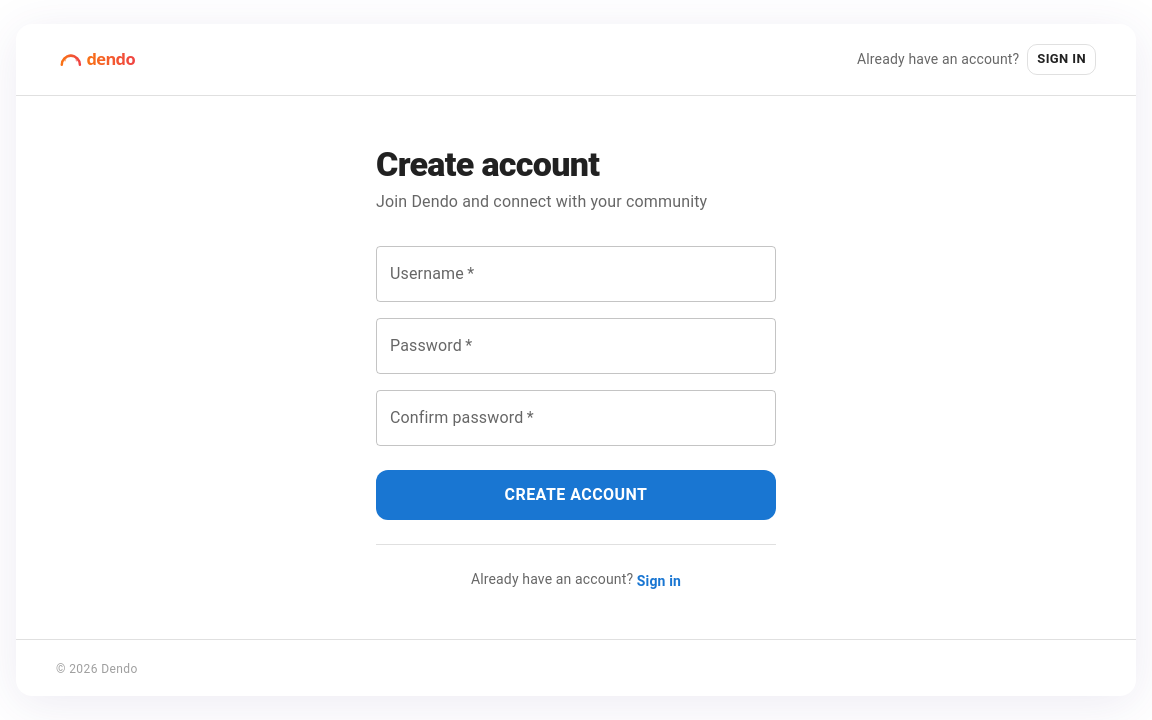
Test: SignupPage › shows server error when username is already taken
In the field labelled "Username *": point(576, 274) [376,246,776,302], type "admin"
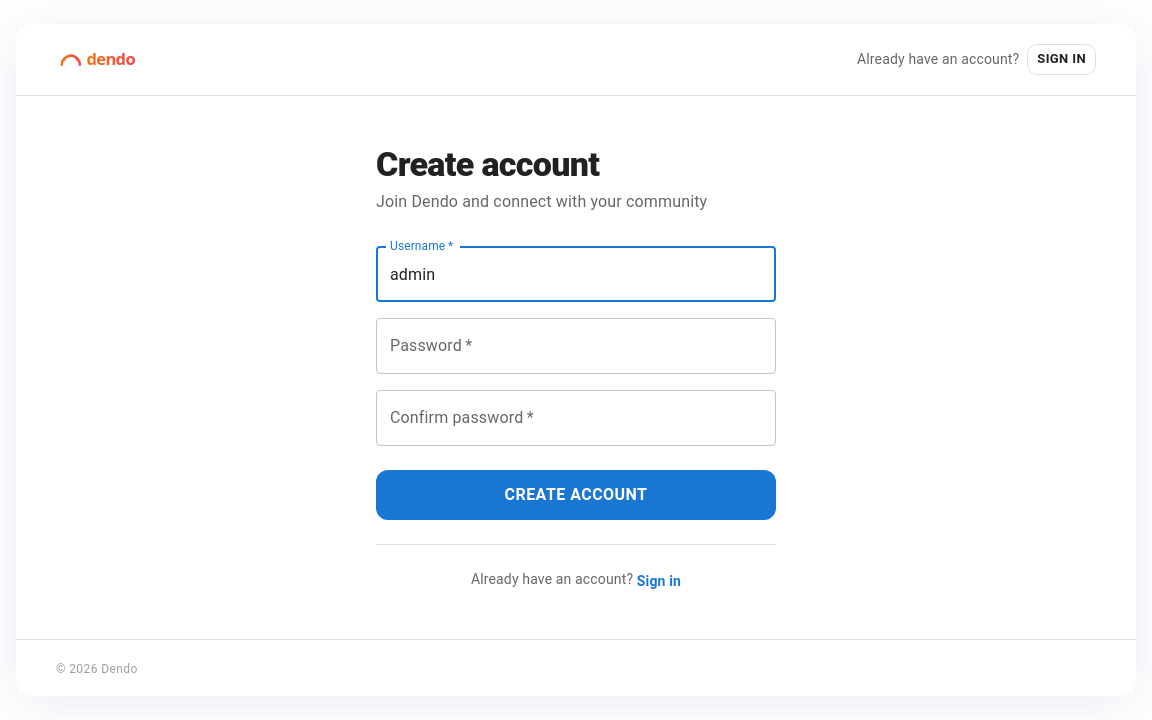
In the password field labelled "Password *": point(576, 346) [376,318,776,374], type "secret123"
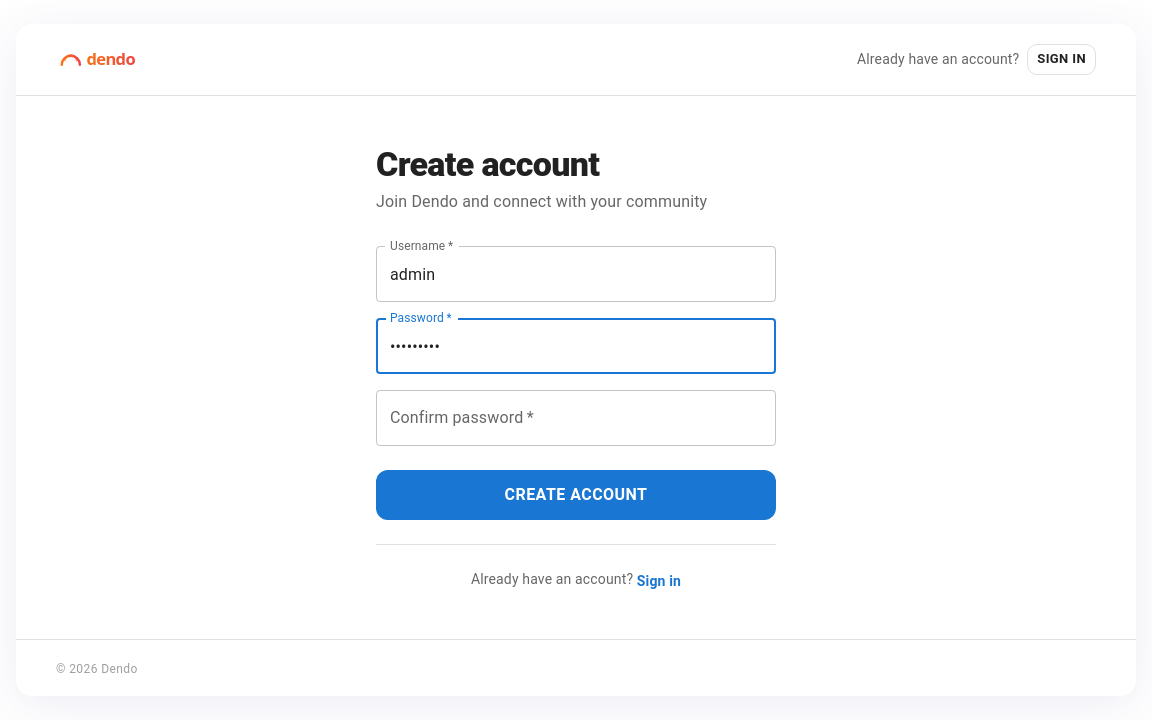
In the password field labelled "Confirm password *": point(576, 418) [376,390,776,446], type "secret123"
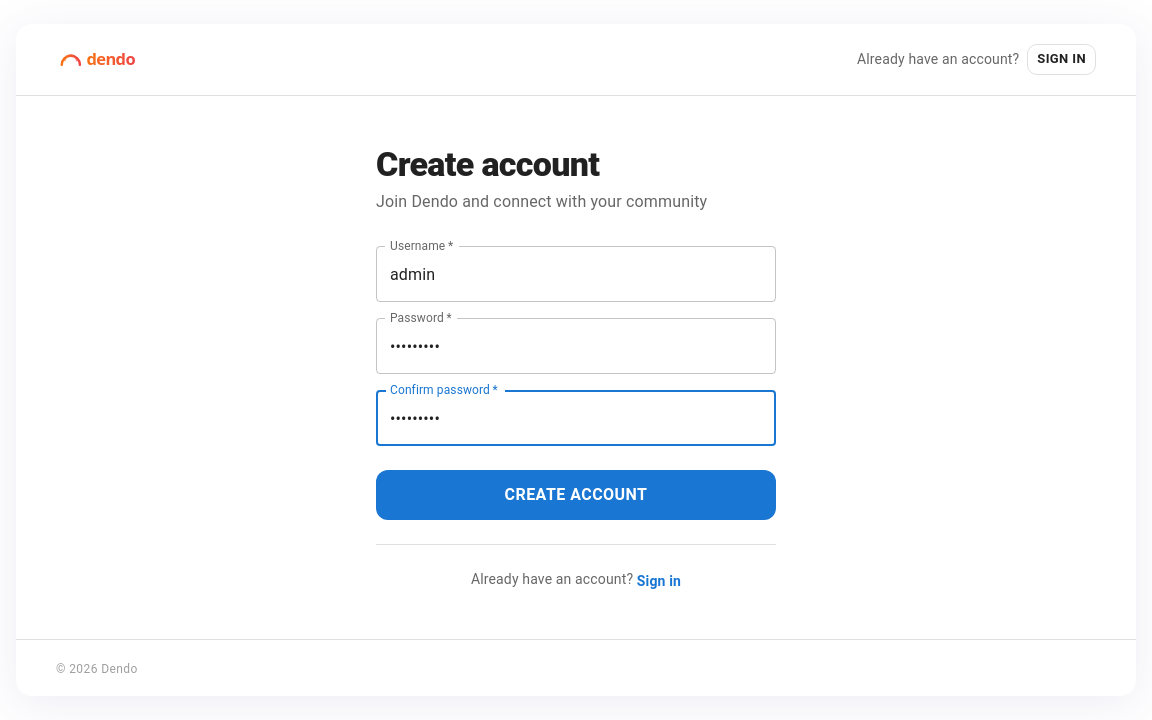
Click the button "Create account": point(576, 495) [376,470,776,520]
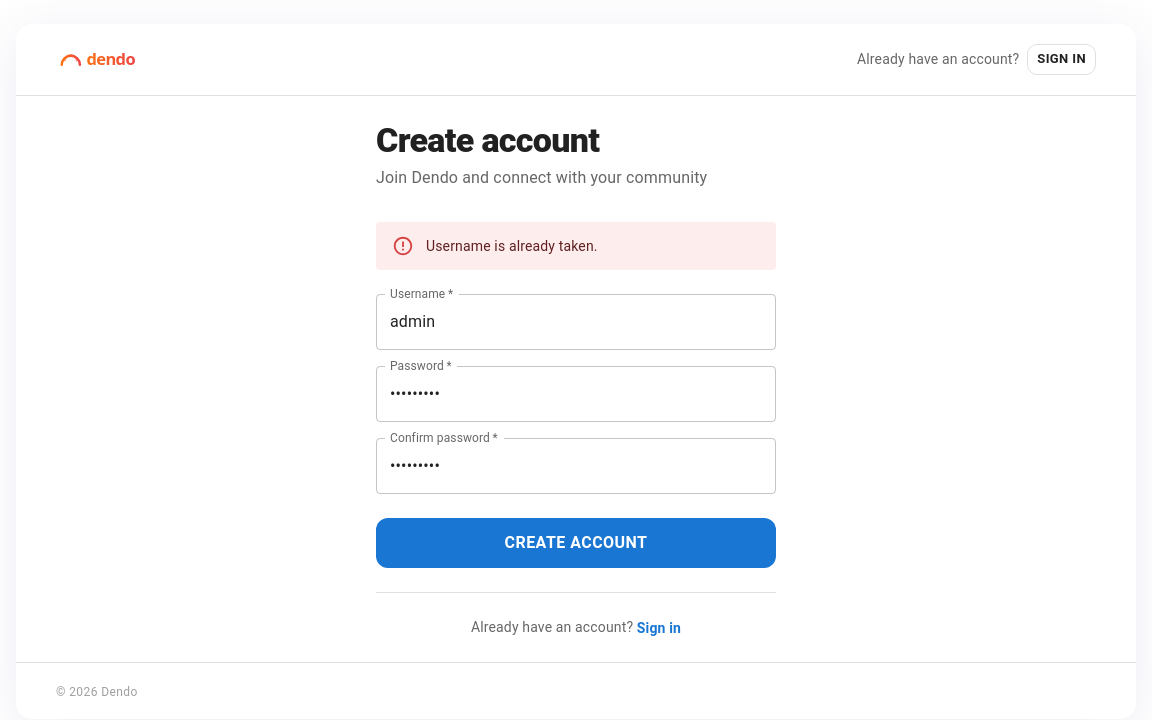
Check: the text "Username is already taken." is shown, box [426,238,598,254]
